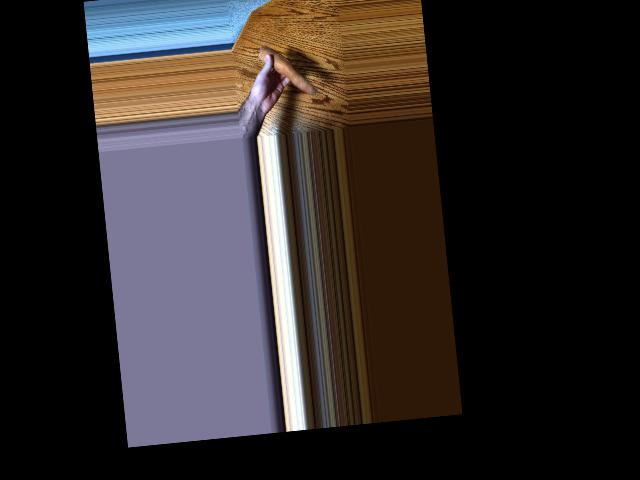sweet_potato: (257, 43, 316, 99)
